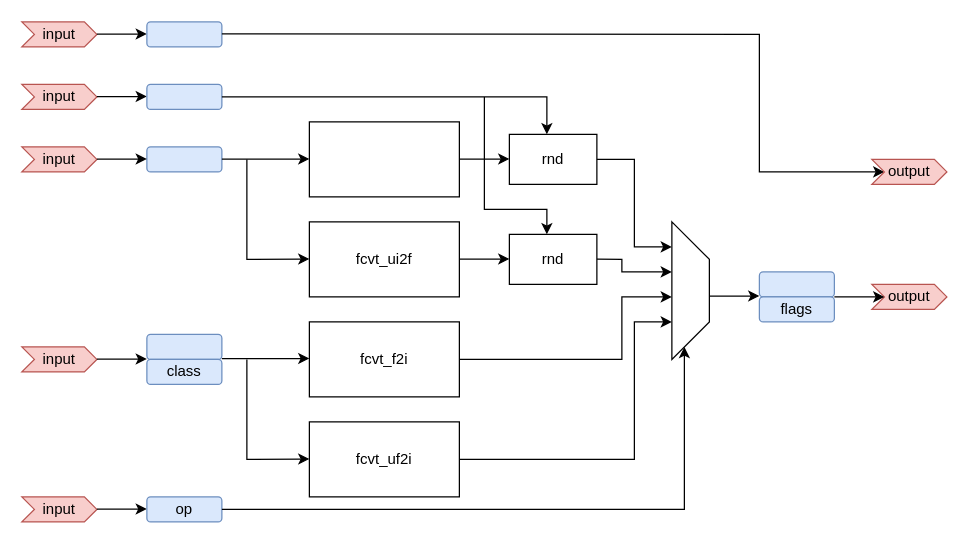
The diagram is 969 pixels wide and 544 high, and some of its shapes have lost their labels. The shapes that lost their labels are listed below. From the top down, each one's centre as x and y in pixels, then its label:
[184,34]: tag
[184,96]: rm
[184,159]: data
[383,159]: fcvt_i2f
[690,290]: mux
[796,284]: result
[184,346]: extend
